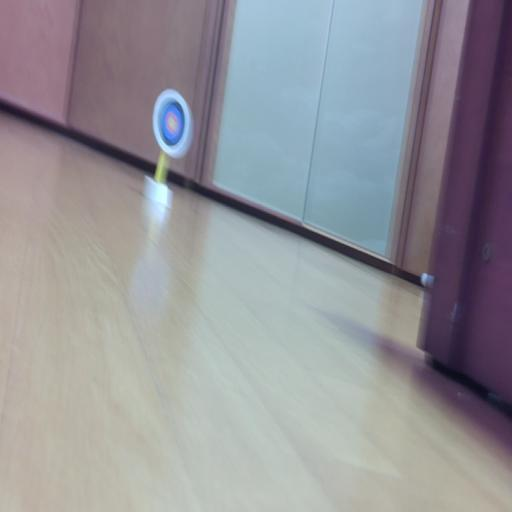target: (152, 90, 193, 158)
